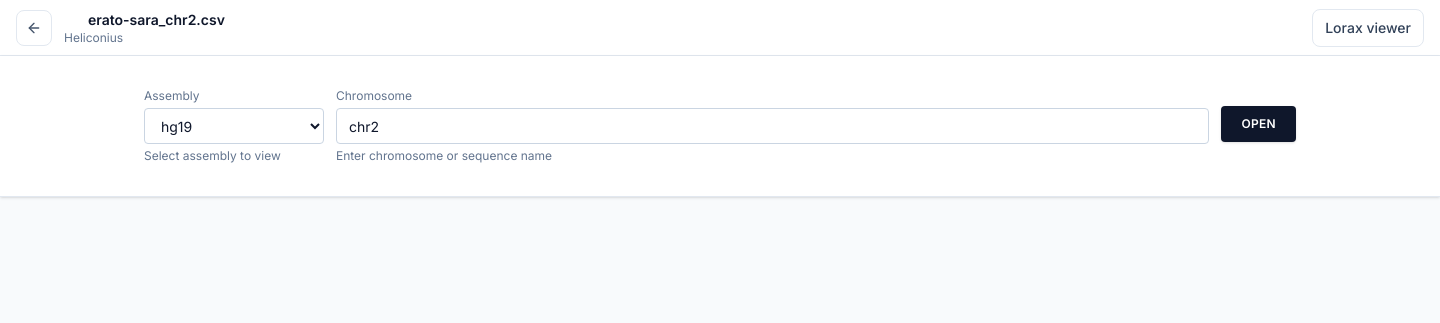
Test: JBrowseFileView › offers uploaded custom assembly files
Select "Custom URL" in the dropdown labelled "Assembly Select assembly to view" at (234, 126), box [144,108,324,144]
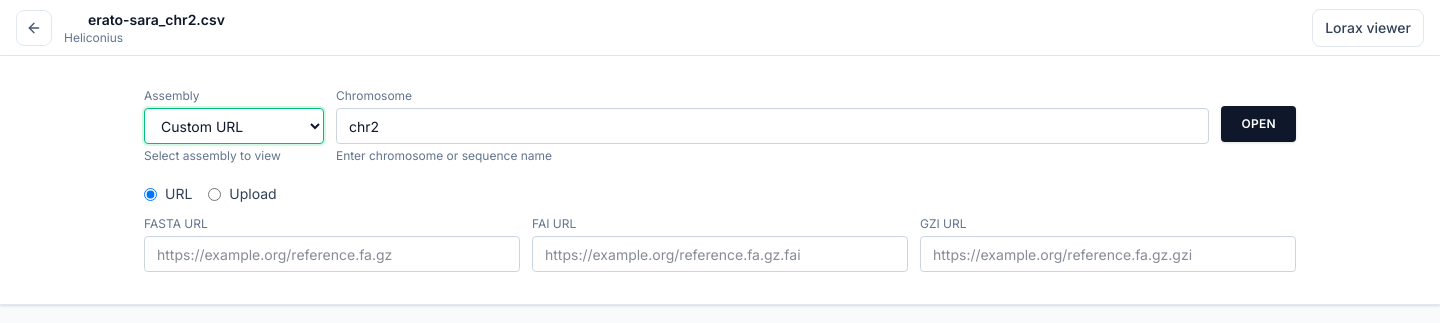
Click the radio button labelled "Upload" at (215, 194), box [208,188,221,200]
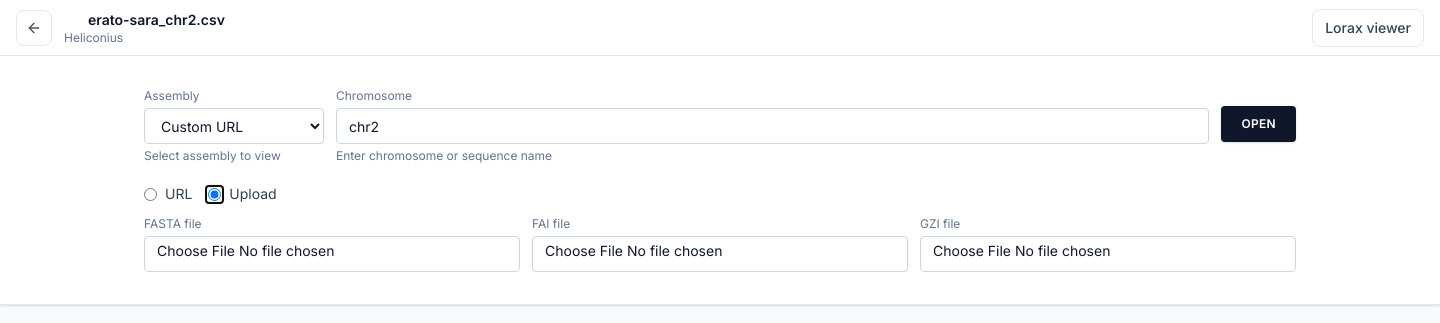
Check: the label labelled "FASTA URL" is gone
